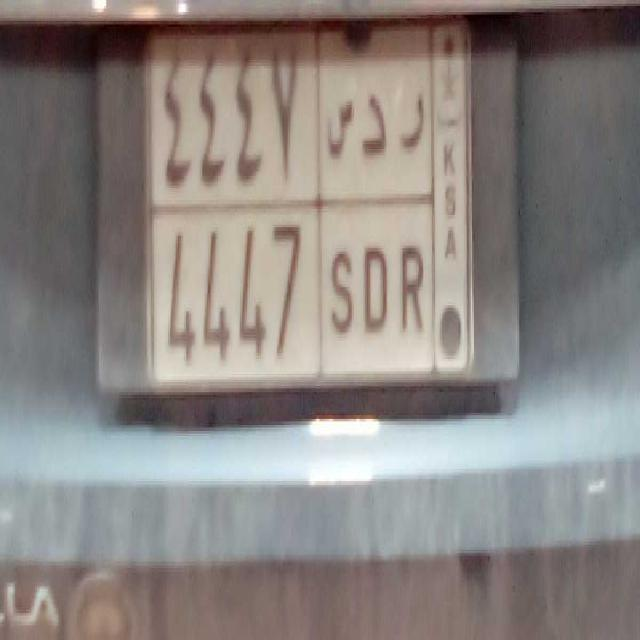license_plate: (152, 199, 431, 393)
